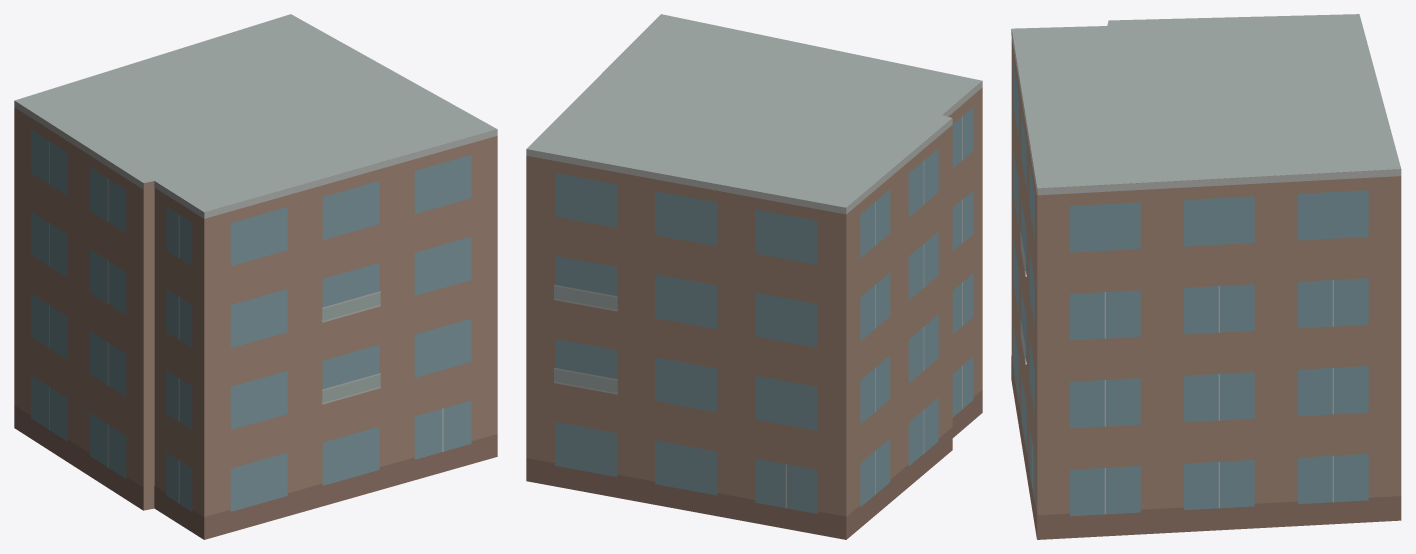
File: survey-upis-32983935.glb
3 views of the same model, side by side, from view 1: azimuth 30°, elevation 25°; view 2: azimuth 150°, elevation 25°; view 3: azimuth 270°, elevation 25° (orthographic). The views are drawn at different scales.
Visible parts, largest first — view 1: survey-upis-32983935.tmp; view 2: survey-upis-32983935.tmp; view 3: survey-upis-32983935.tmp.
Part boxes in pixels (x1,y1,x2,y2): survey-upis-32983935.tmp: (14,14,497,539); survey-upis-32983935.tmp: (526,14,982,539); survey-upis-32983935.tmp: (1011,14,1401,539).
Size of the model in its own units: 12.99 by 12.2 by 12.27.
